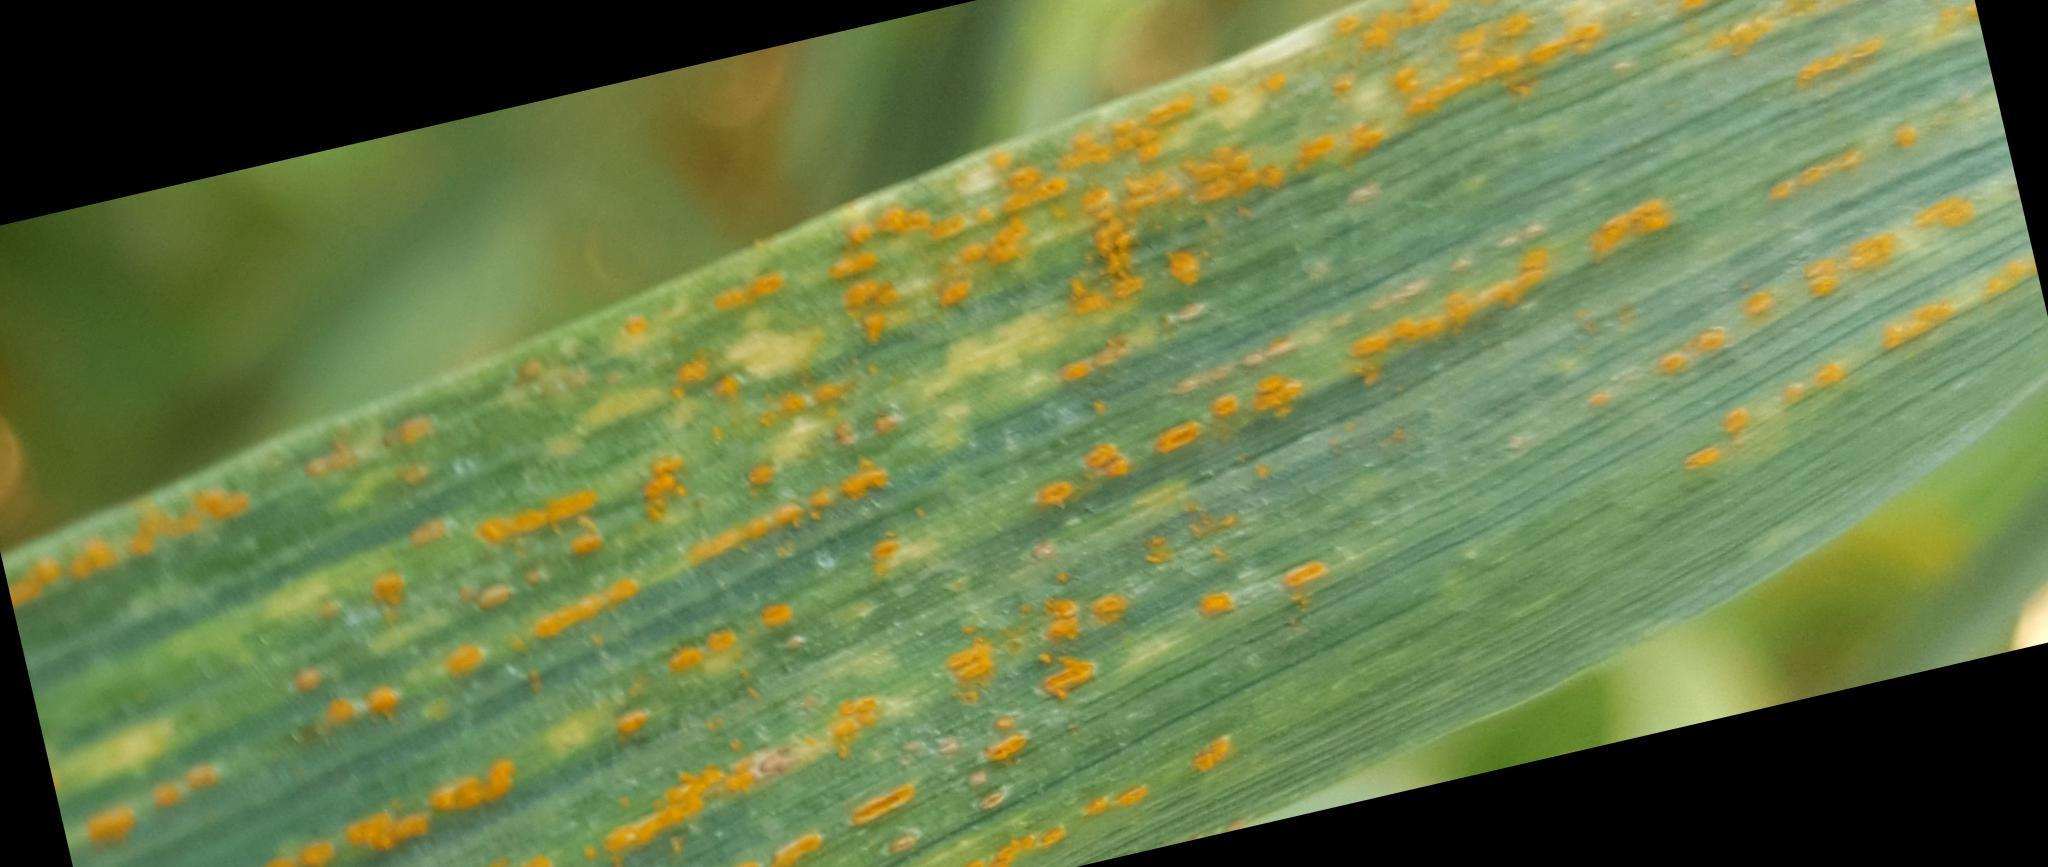Wheat: (657, 16, 1708, 679), (529, 494, 1445, 864), (307, 419, 818, 863), (1573, 115, 1983, 507)
